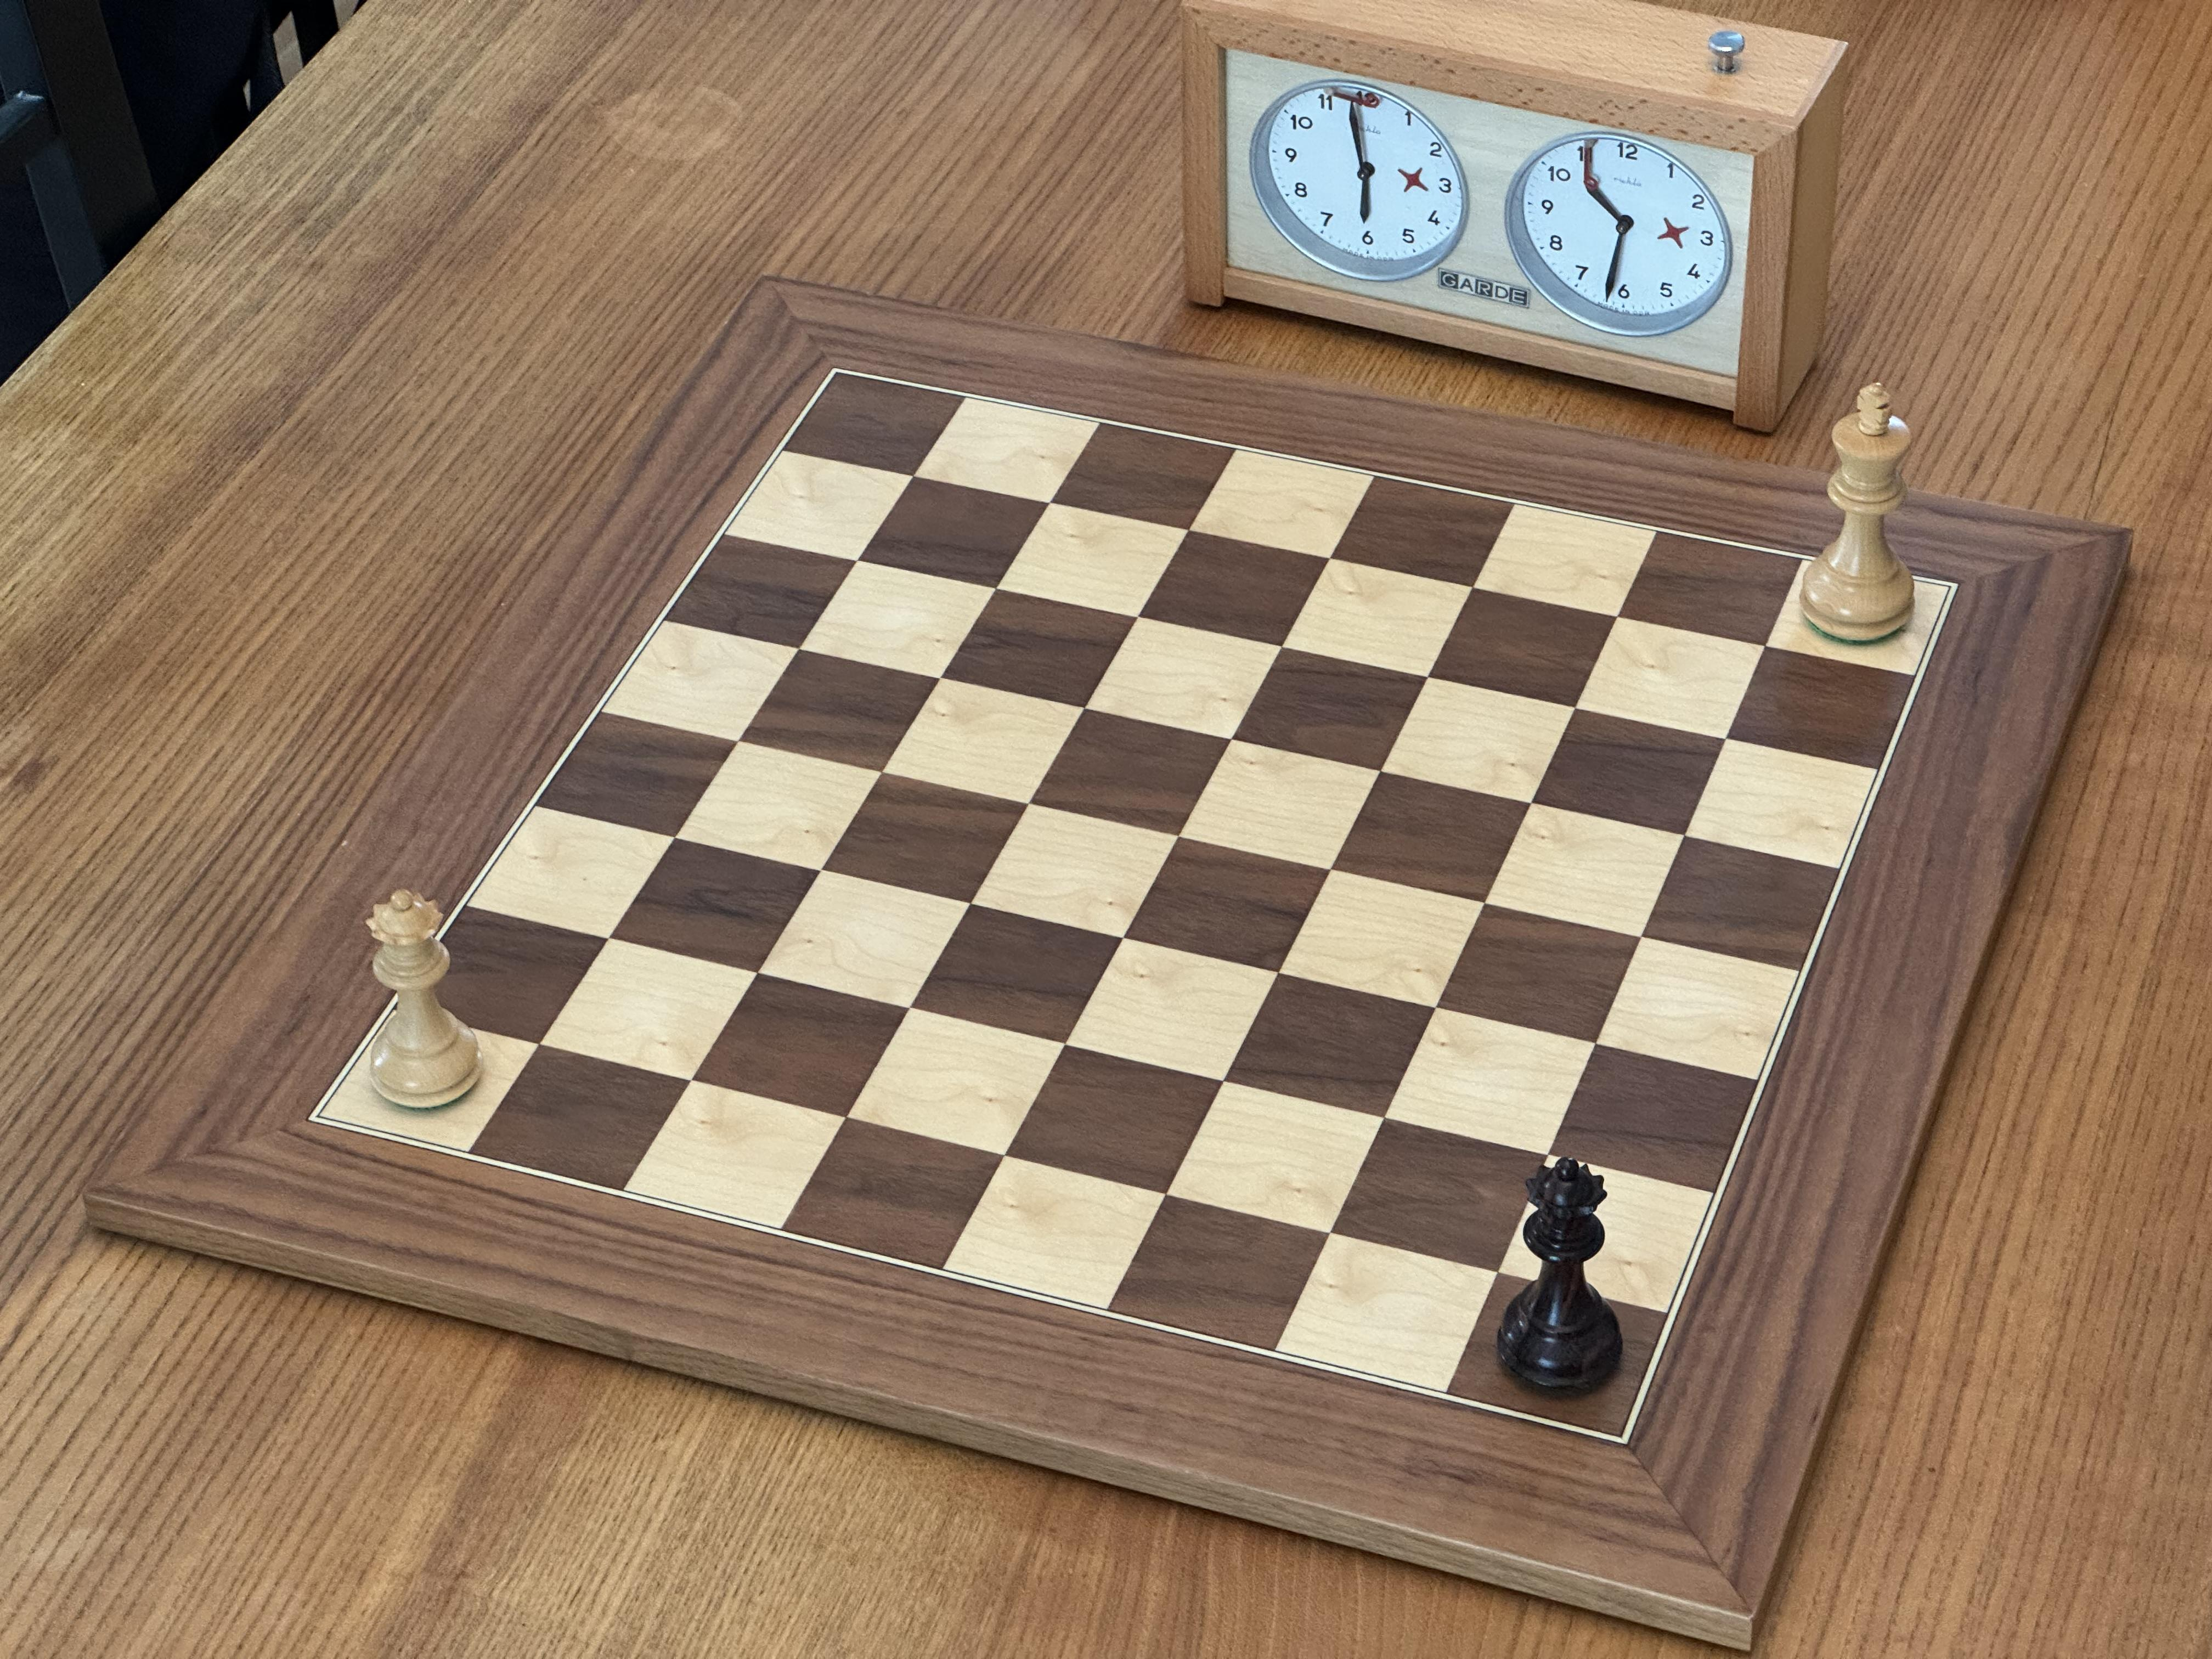corner A: (224, 1033, 393, 1200)
corner B: (1541, 1350, 1729, 1536)
corner C: (1873, 500, 2036, 670)
